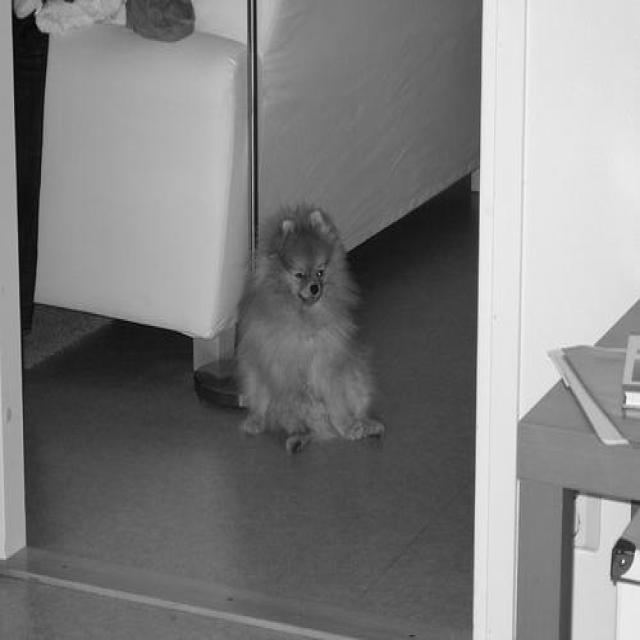sitting: (228, 203, 390, 459)
